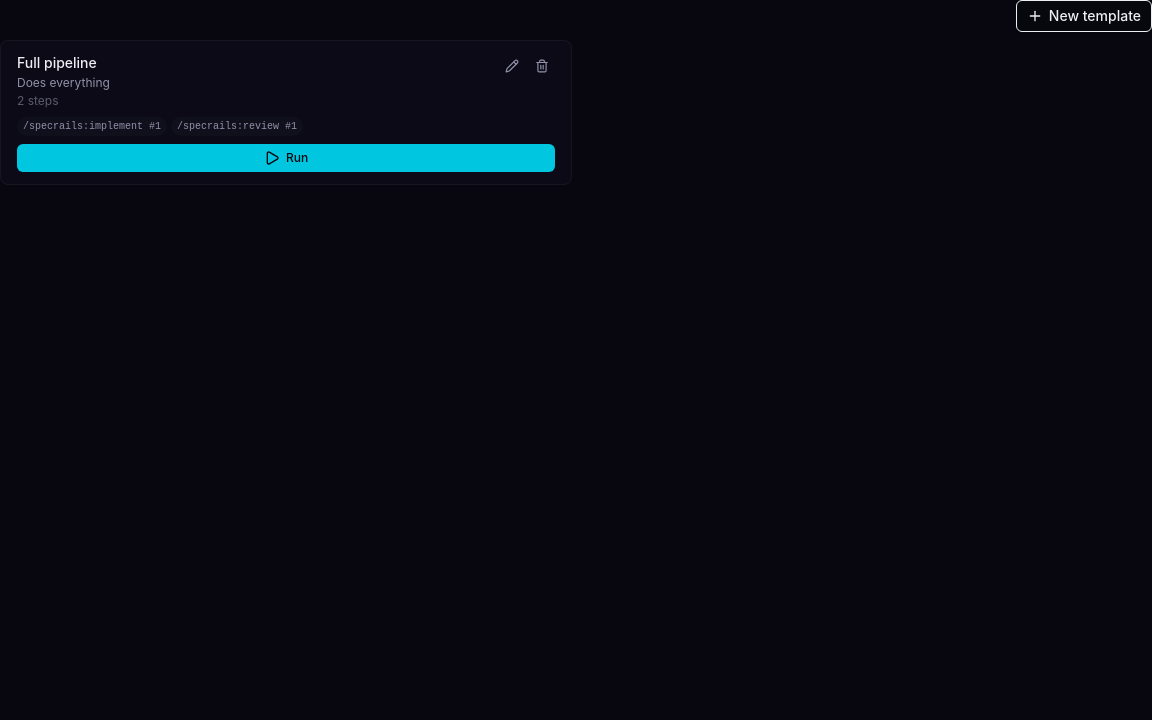
Scenario: TemplateLibrary › opens Edit dialog when pencil button is clicked
The image size is (1152, 720).
Click the button named "Edit template" at (512, 66), box left=499, top=53, right=525, bottom=79
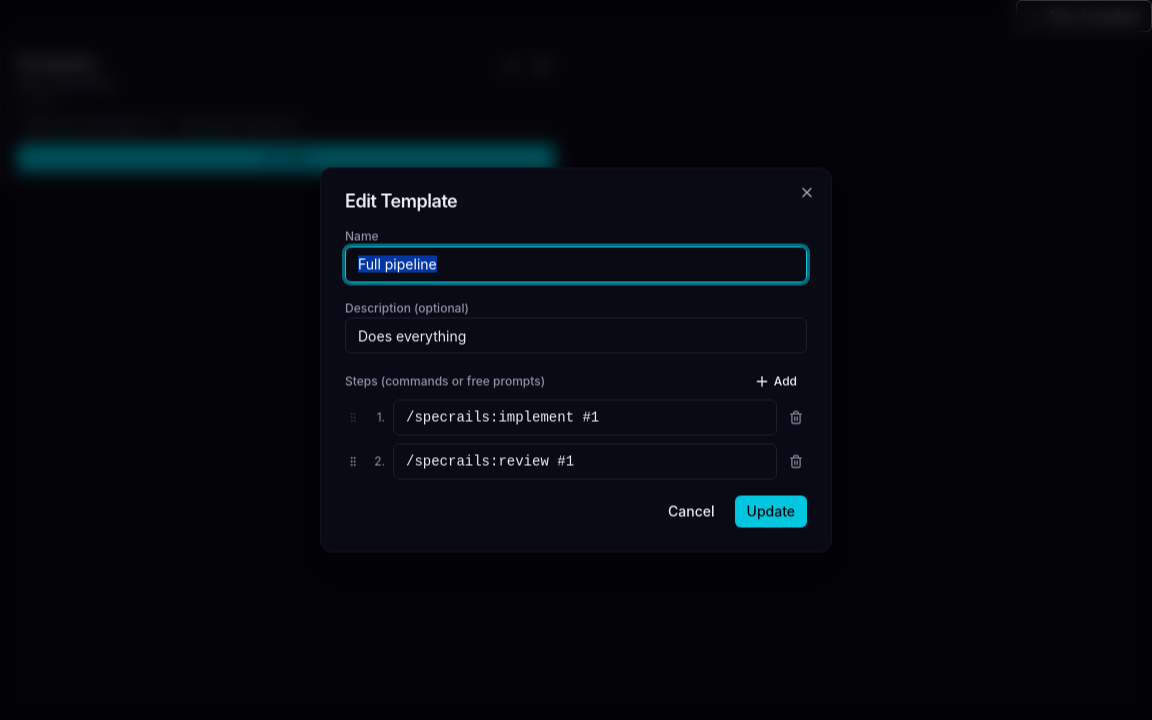
Check: the dialog is shown, box left=320, top=168, right=832, bottom=552
Check: the heading "Edit Template" is shown, box left=345, top=190, right=457, bottom=212
Check: the field showing "Full pipeline" below "Name" is shown, box left=345, top=246, right=807, bottom=282
